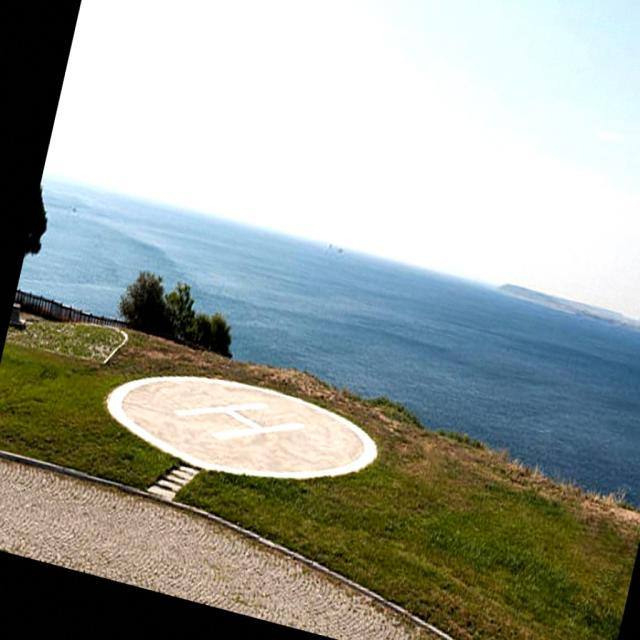helipad: (103, 370, 381, 486)
